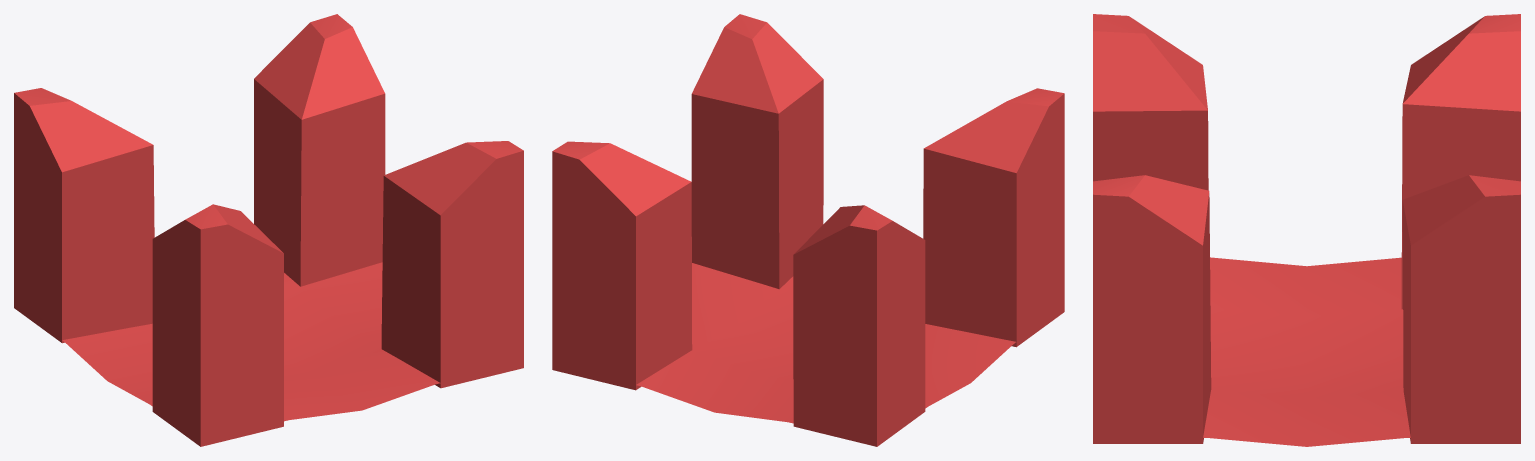
Rendered from Ground_X_Intersection_Wood_COL.fbx.
The picture shows the model from 3 angles, left to right: view 1: azimuth 30°, elevation 25°; view 2: azimuth 150°, elevation 25°; view 3: azimuth 270°, elevation 25°; orthographic projection. The views are drawn at different scales.
Visible parts, largest first — view 1: Ground_X_Intersection_Wood_COL; view 2: Ground_X_Intersection_Wood_COL; view 3: Ground_X_Intersection_Wood_COL.
Boxes of the visible parts, left/top/right/bottom form: Ground_X_Intersection_Wood_COL: left=14, top=14, right=523, bottom=446; Ground_X_Intersection_Wood_COL: left=552, top=14, right=1064, bottom=446; Ground_X_Intersection_Wood_COL: left=1093, top=14, right=1520, bottom=446.
Size of the model in its own units: 400 by 270 by 400.
